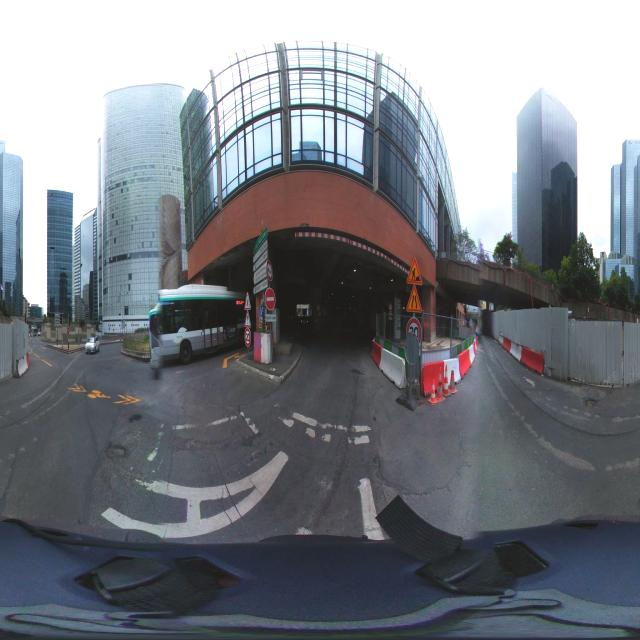car: (85, 334, 101, 354)
